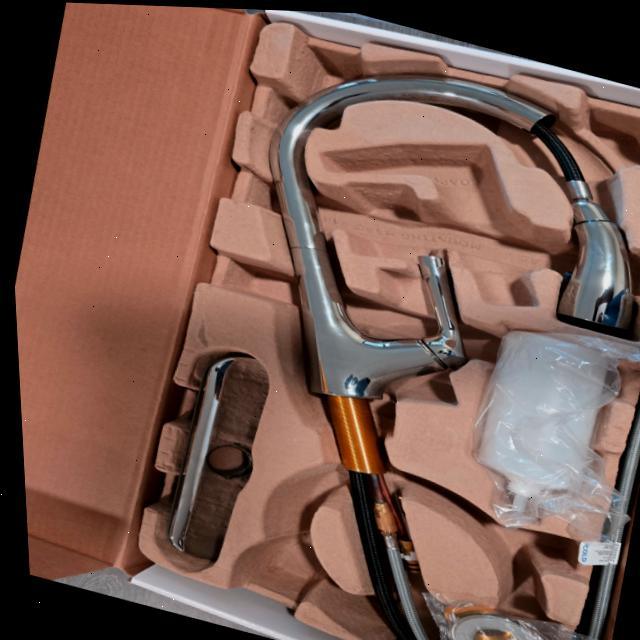1: (269, 72, 634, 640)
2m: (319, 142, 538, 304)
3: (474, 327, 614, 522)
4: (167, 356, 271, 560)
5m: (242, 539, 316, 595)
6: (423, 592, 588, 640)
7m: (444, 498, 580, 594)
